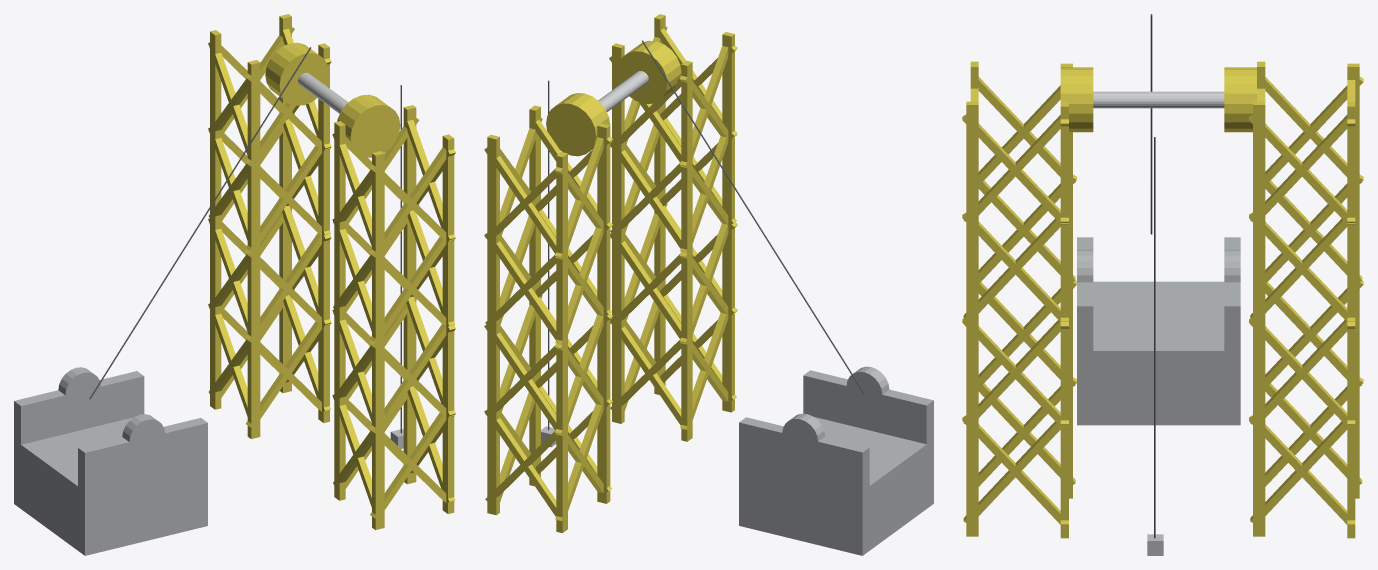
File: hoist_drumless.glb
3 views of the same model, side by side, from view 1: azimuth 30°, elevation 25°; view 2: azimuth 150°, elevation 25°; view 3: azimuth 270°, elevation 25° (orthographic). The views are drawn at different scales.
Parts seen in each view (by area): view 1: Mesh_Mesh_head_geo.001_lambert2SG.001; view 2: Mesh_Mesh_head_geo.001_lambert2SG.001; view 3: Mesh_Mesh_head_geo.001_lambert2SG.001.
Part boxes in pixels (<box>): Mesh_Mesh_head_geo.001_lambert2SG.001: <box>14,14,455,555</box>; Mesh_Mesh_head_geo.001_lambert2SG.001: <box>484,14,933,555</box>; Mesh_Mesh_head_geo.001_lambert2SG.001: <box>962,14,1363,555</box>.
Size of the model in its own units: 28.9 by 32.81 by 24.5.
